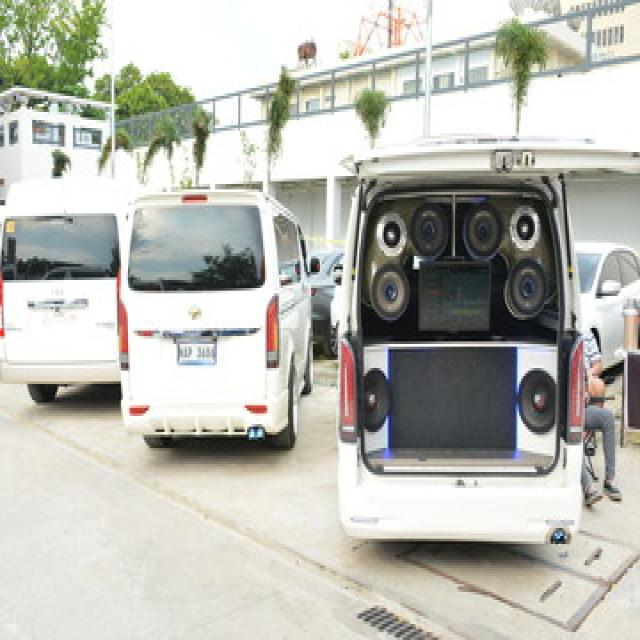car: (576, 243, 638, 368), (309, 253, 341, 357)
person: (581, 331, 620, 507)
van: (338, 144, 581, 541), (121, 189, 311, 448), (0, 179, 128, 400)
